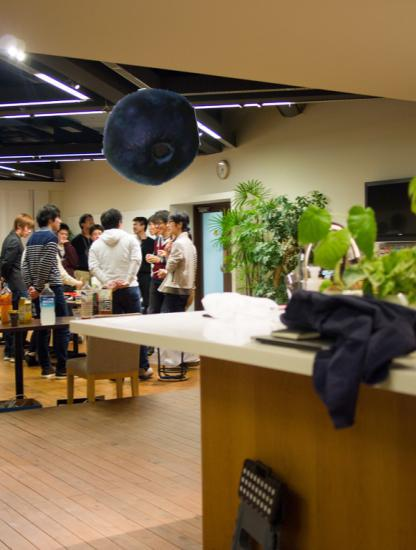Blueberry: (100, 88, 199, 187)
